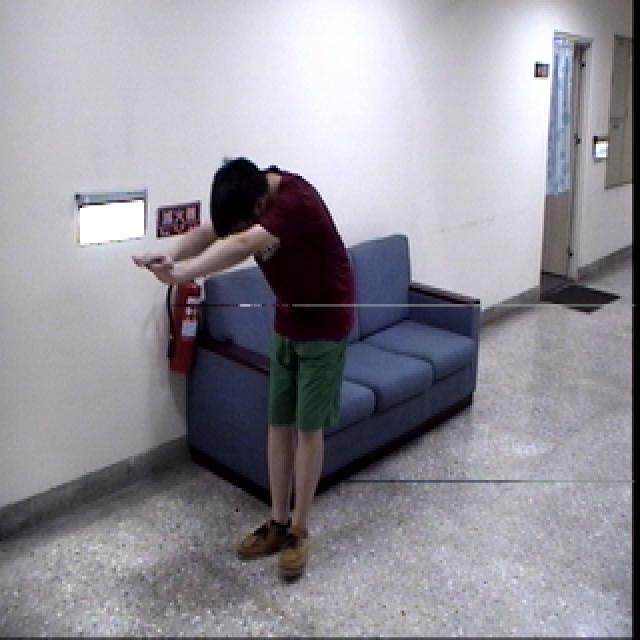bend: (126, 151, 362, 590)
